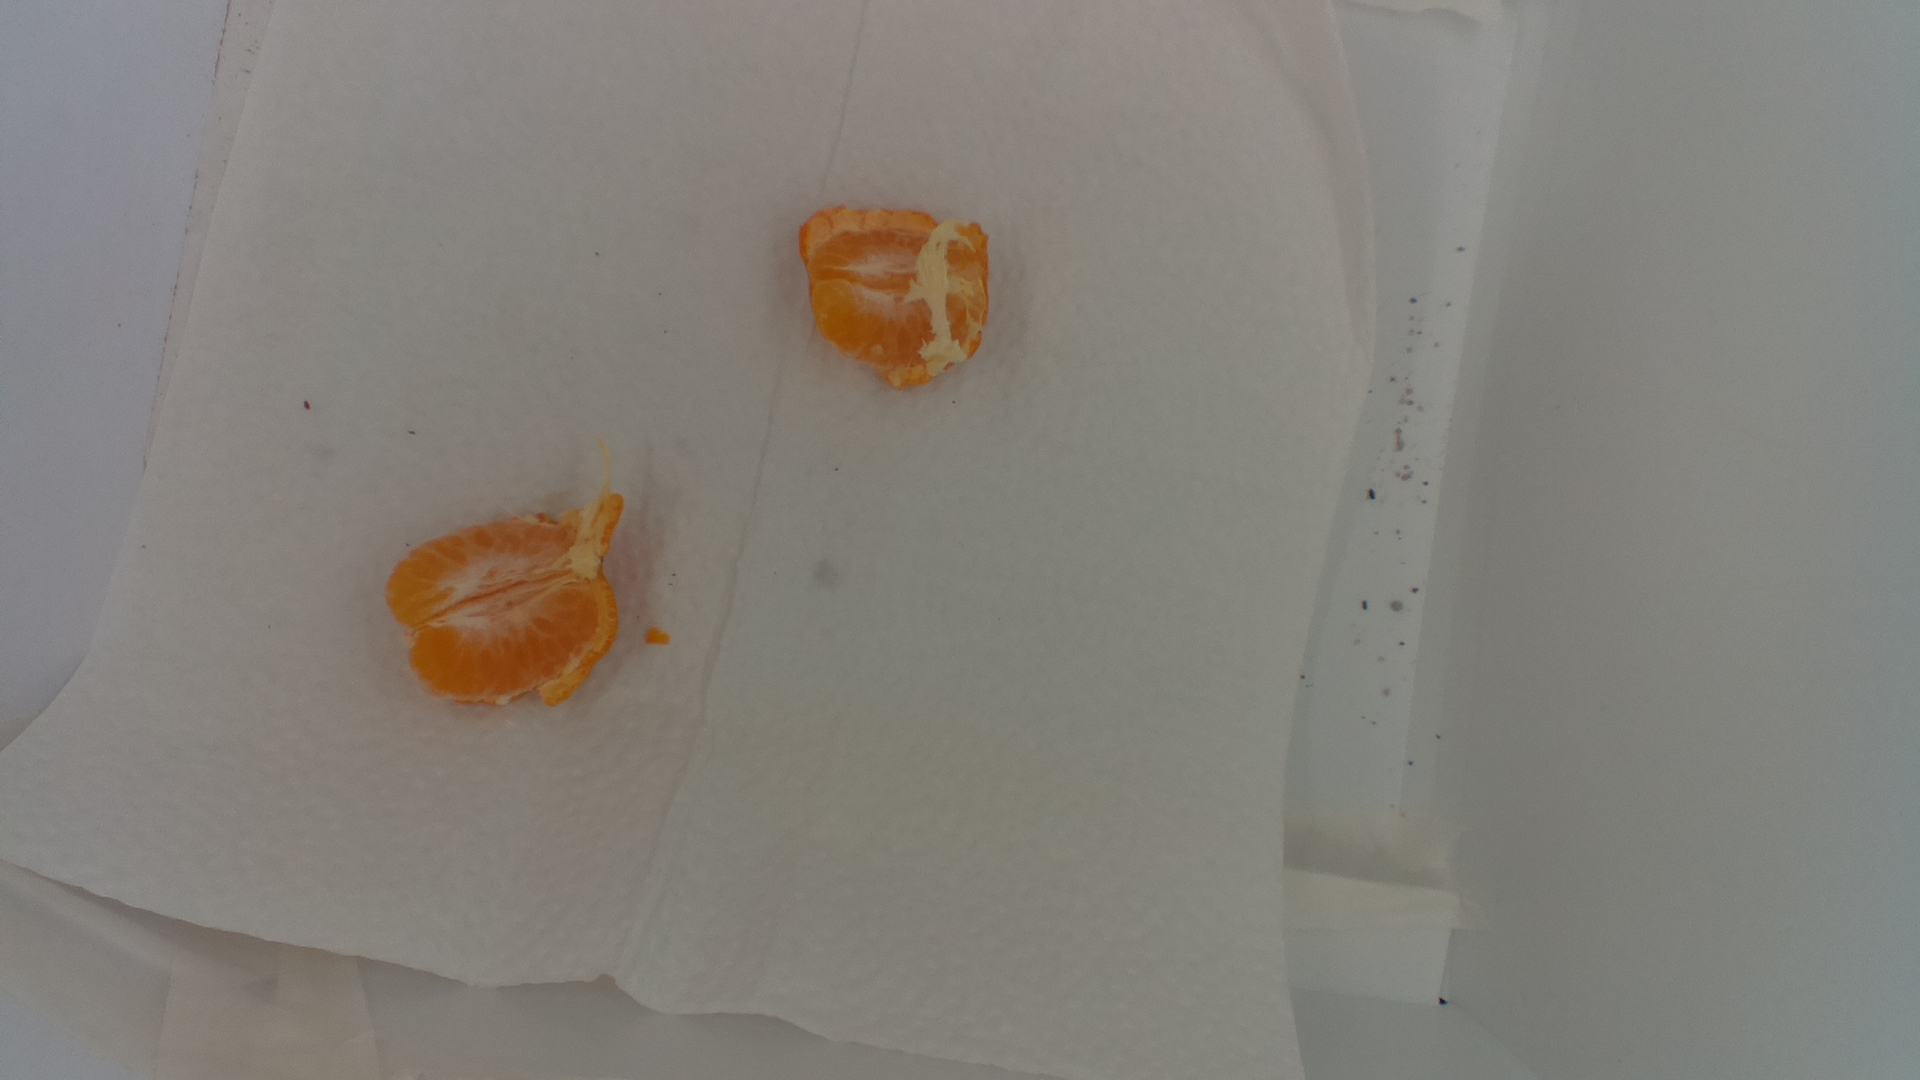fruit: (385, 476, 654, 712), (795, 200, 1006, 397)
